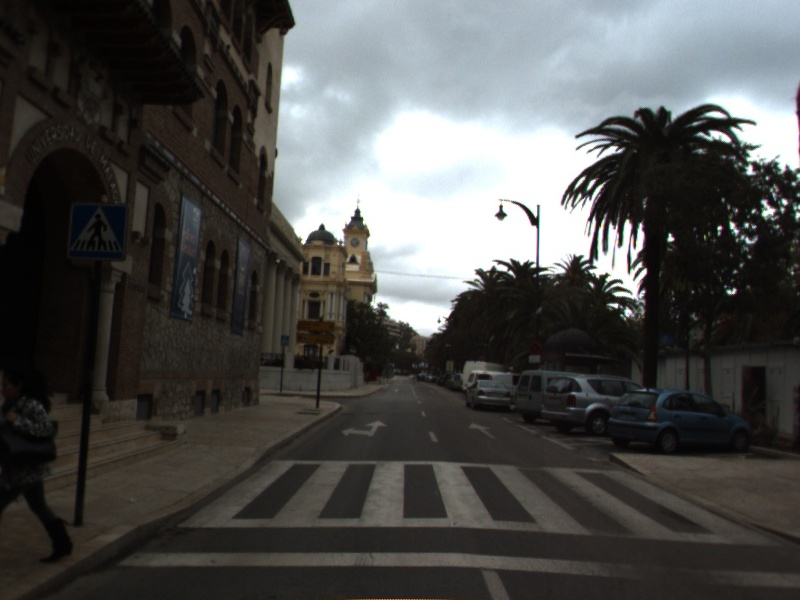STRAIGHT: (466, 420, 498, 441)
STRAIGHT_LEFT: (339, 418, 390, 439)
